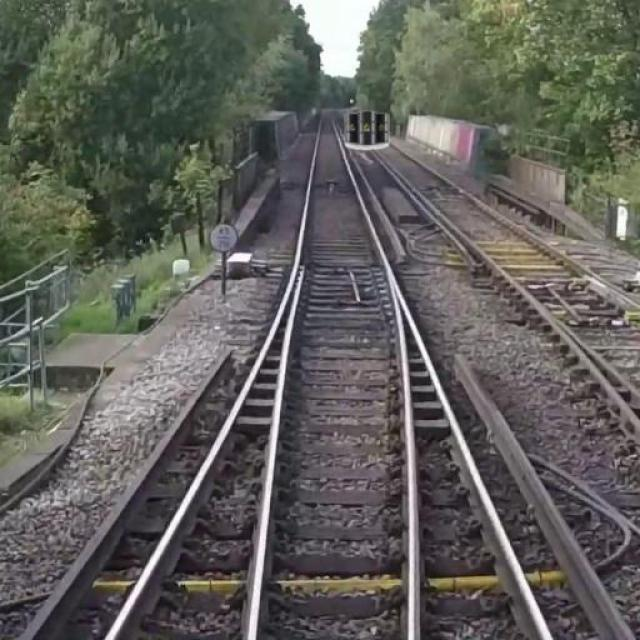Other_objects: (342, 105, 394, 154)
